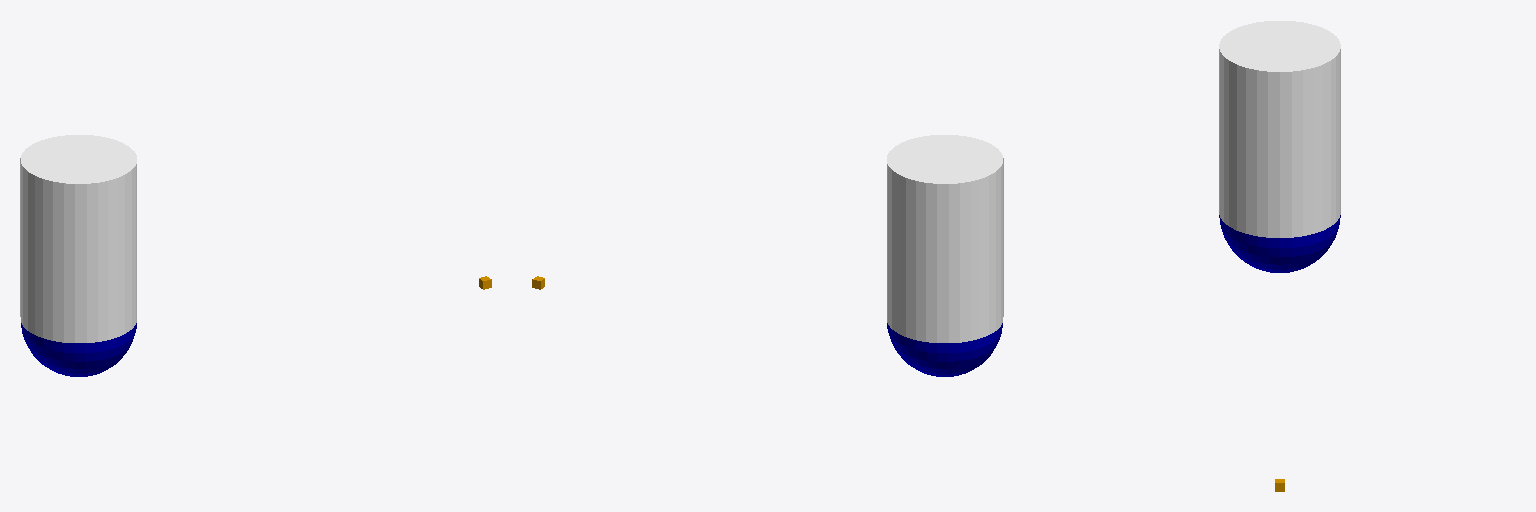
The robot description file, URDF, robot "diff_drive_bot":
<?xml version="1.0"?>
<!--Autonomous Robots-->
<!--URDF Mesh-->
<!--Author: [author]-->
<!--Date: Mon 27 Apr 2020 14:39:24 UTC-->

<robot name="diff_drive_bot">

    <!--Materials color predefined-->
  <material name="black">
    <color rgba="0.0 0.0 0.0 1.0"/>
  </material>
  <material name="blue">
    <color rgba="0 0 0.8 1.0"/>
  </material>
  <material name="green">
    <color rgba="0.0 0.8 0.0 1.0"/>
  </material>
  <material name="red">
    <color rgba="1.0 0 0 1.0"/>
  </material>
  <material name="white">
    <color rgba="1.0 1.0 1.0 1.0"/>
  </material>

  <link name="base_footprint">
    <!--<inertial>-->
      <!--<mass value="0.0001"/>-->
      <!--<origin xyz="0 0 0"/>-->
      <!--<inertia ixx="0.0" ixy="0.0" ixz="0.0" iyy="0.0" iyz="0.0" izz="0.0"/>-->
    <!--</inertial>-->
    <visual>
      <origin rpy="0 0 0" xyz="0 0 0"/>
      <geometry>
        <box size="0.001 0.001 0.001"/>
      </geometry>
    </visual>
  </link>

    <link name="base_link">
        <visual>
            <origin rpy="1.57079632679 0 1.57079632679 " xyz="0 0 0"/>
            <geometry>
                <mesh filename="package://custom_bot/meshes/Robot_chassis.STL" scale="0.001 0.001 0.001"/>
            </geometry>
            <material name="red"/>
        </visual>
        <inertial>
            <origin rpy="1.57079632679 0 1.57079632679 " xyz="0 0 0"/>
            <mass value="1"/>
            <inertia ixx="0.015" ixy="0" ixz="0" iyy="0.0375" iyz="0" izz="0.0375"/>
        </inertial>
        <collision>
            <origin rpy="0 0 0" xyz="0 0 0"/>
            <geometry>
                <box size="0.15 .20 .054"/>
            </geometry>
        </collision>
    </link>

    <link name="front_castor_of_wheel">
        <visual>
            <origin rpy="0 0 0" xyz="0 0 -0.009375"/>
            <geometry>
                <cylinder radius="0.00625" length="0.01875"/>
            </geometry>
            <material name="white"/>
        </visual>
        <inertial>
            <origin rpy="0 0 0" xyz="0 0 -0.009375"/>
            <mass value="1"/>
            <inertia ixx="0.00083" ixy="0" ixz="0" iyy="0.00083" iyz="0" izz="0.000167"/>
        </inertial>
         <collision>
            <origin rpy="0 0 0" xyz="0 0 -0.009375"/>
            <geometry>
                <cylinder radius="0.00625" length="0.01875"/>
            </geometry>
        </collision>
    </link>

    <link name="front_wheel">
        <visual>
            <origin rpy="0 0 0" xyz="0 0 0"/>
            <geometry>
                <sphere radius="0.00625"/>
            </geometry>
            <material name="blue"/>
        </visual>
        <inertial>
            <mass value="1"/>
            <inertia ixx="5.1458e-5" ixy="0" ixz="0" iyy="5.1458e-5" iyz="0.0" izz="6.125e-5"/>
        </inertial>
        <collision>
            <geometry>
                <sphere radius="0.00625"/>
            </geometry>
        </collision>
    </link>

    <link name="right_wheel">
        <visual>
            <origin rpy="0 0 0" xyz="0 0 0"/>
            <geometry>
                <!--<cylinder radius="0.035" length="0.05"/>-->
                <mesh filename="package://custom_bot/meshes/wheel.STL" scale="1 1 1"/>
            </geometry>
            <material name="green"/>
        </visual>
        <inertial>
            <mass value="1"/>
            <inertia ixx="5.1458e-5" ixy="0" ixz="0" iyy="5.1458e-5" iyz="0.0" izz="6.125e-5"/>
        </inertial>
        <collision>
            <origin rpy="0 0 0" xyz="0 0 0.0125"/>
            <geometry>
                <cylinder radius="0.032" length="0.025"/>
            </geometry>
        </collision>
    </link>

    <link name="left_wheel">
        <visual>
            <origin rpy="0 0 0" xyz="0 0 0"/>
            <geometry>
                <mesh filename="package://custom_bot/meshes/wheel.STL" scale="1 1 1"/>
                <!--<cylinder radius="0.035" length="0.05"/>-->
            </geometry>
            <material name="green"/>
        </visual>
        <inertial>
            <mass value="1"/>
            <inertia ixx="5.1458e-5" ixy="0" ixz="0" iyy="5.1458e-5" iyz="0.0" izz="6.125e-5"/>
        </inertial>
        <collision>
            <origin rpy="0 0 0" xyz="0 0 0.0125"/>
            <geometry>
                <cylinder radius="0.032" length="0.025"/>
            </geometry>
        </collision>
    </link>

    <joint name="base_foorprint_to_base_link" type="fixed">
        <origin xyz="0 0 0.0512"/>
        <parent link="base_footprint"/>
        <child link="base_link"/>
    </joint>

    <joint name="base_to_castor_socket" type="fixed">
        <origin xyz="-0.05 0 -0.025"/>
        <parent link="base_link"/>
        <child link="front_castor_of_wheel"/>
    </joint>

    <joint name="castor_socket_to_front_wheel" type="fixed">
        <origin xyz="0 0 -0.01875"/>
        <parent link="front_castor_of_wheel"/>
        <child link="front_wheel"/>
    </joint>

    <joint name="base_link_to_right_wheel" type="continuous">
        <origin rpy="1.57079632679 0  0 " xyz="0.0267 0.13 -0.02"/>
        <axis xyz="0 0 1 "/>
        <parent link="base_link"/>
        <child link="right_wheel"/>
    </joint>

    <joint name="base_link_to_left_wheel" type="continuous">
        <origin rpy="-1.57079632679 0  0 " xyz="0.0267 -0.13 -0.02"/>
        <axis xyz="0 0 -1 "/>
        <parent link="base_link"/>
        <child link="left_wheel"/>
    </joint>

</robot>

--- Facts derived from the render (not from the file) ---
The picture shows the robot from 3 angles, left to right: view 1: azimuth 30°, elevation 25°; view 2: azimuth 150°, elevation 25°; view 3: azimuth 270°, elevation 25°; orthographic projection.
Model diff_drive_bot with 6 links and 5 joints (2 continuous, 3 fixed), rooted at base_footprint, posed every joint at zero.
Links seen in each view (by area): view 1: front_castor_of_wheel, front_wheel; view 2: front_castor_of_wheel, front_wheel; view 3: front_castor_of_wheel, front_wheel.
Link boxes in pixels (x1,y1,x2,y2): front_castor_of_wheel: (20,135,136,342); front_wheel: (21,323,136,376); front_castor_of_wheel: (887,135,1003,342); front_wheel: (887,323,1002,376); front_castor_of_wheel: (1219,21,1340,237); front_wheel: (1219,215,1340,272).
Bounding box of the posed robot: 0.0567 × 0.0125 × 0.0267 m (x, y, z).
0 mesh visuals loaded from 2 distinct referenced files (none loaded); not drawn: 3 (reference not matched to a file when rendering).
